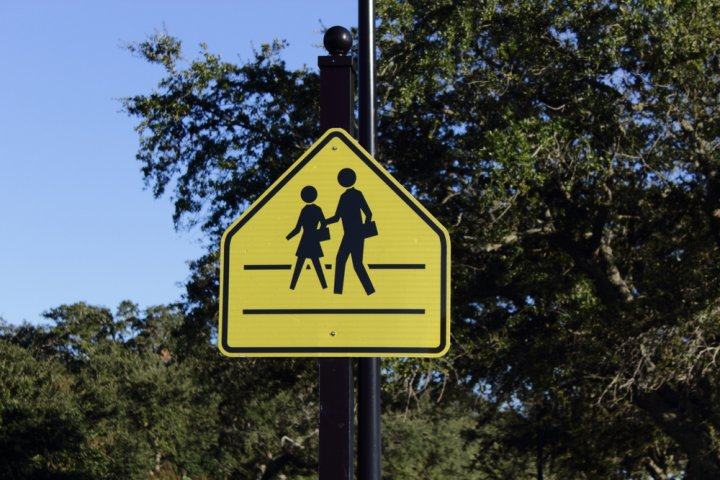slow: (210, 124, 457, 365)
